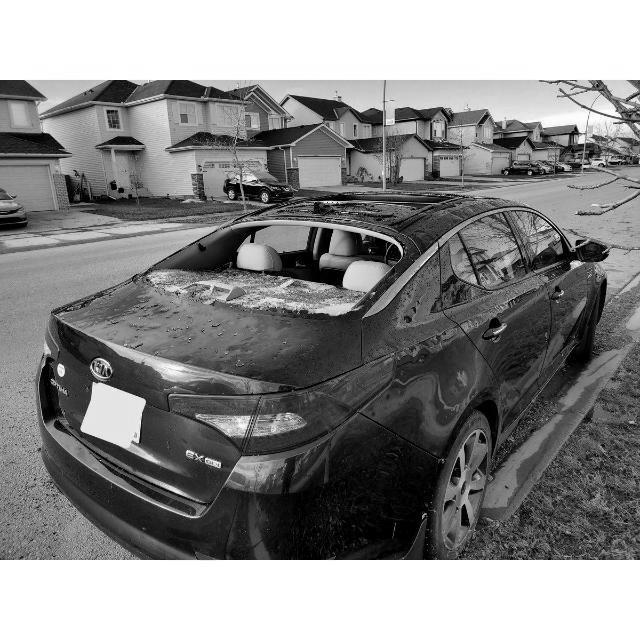Rear-windscreen-Damage: (145, 210, 429, 311)
